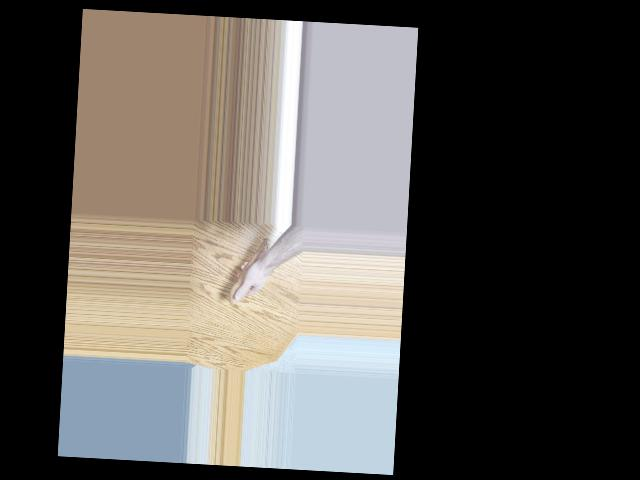sweet_potato: (230, 234, 272, 303)
